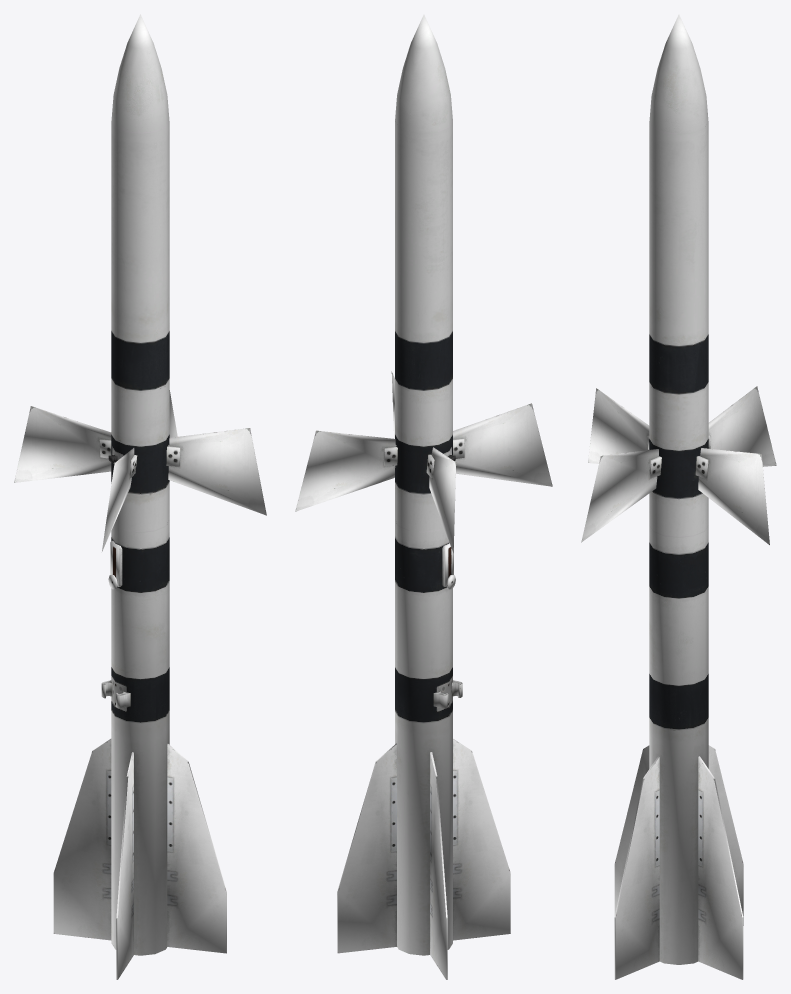
The picture shows the model from 3 angles, left to right: view 1: azimuth 30°, elevation 25°; view 2: azimuth 150°, elevation 25°; view 3: azimuth 270°, elevation 25°; orthographic projection.
Visible parts, largest first — view 1: R-27 (2); view 2: R-27 (2); view 3: R-27 (2).
Boxes of the visible parts, bbox=[...] form: R-27 (2): bbox=[14, 14, 266, 979]; R-27 (2): bbox=[295, 14, 552, 979]; R-27 (2): bbox=[581, 14, 776, 979].
Size of the model in its own units: 0.4529 by 2.4 by 0.4529.
Materials: 1 (1 with a texture image).
